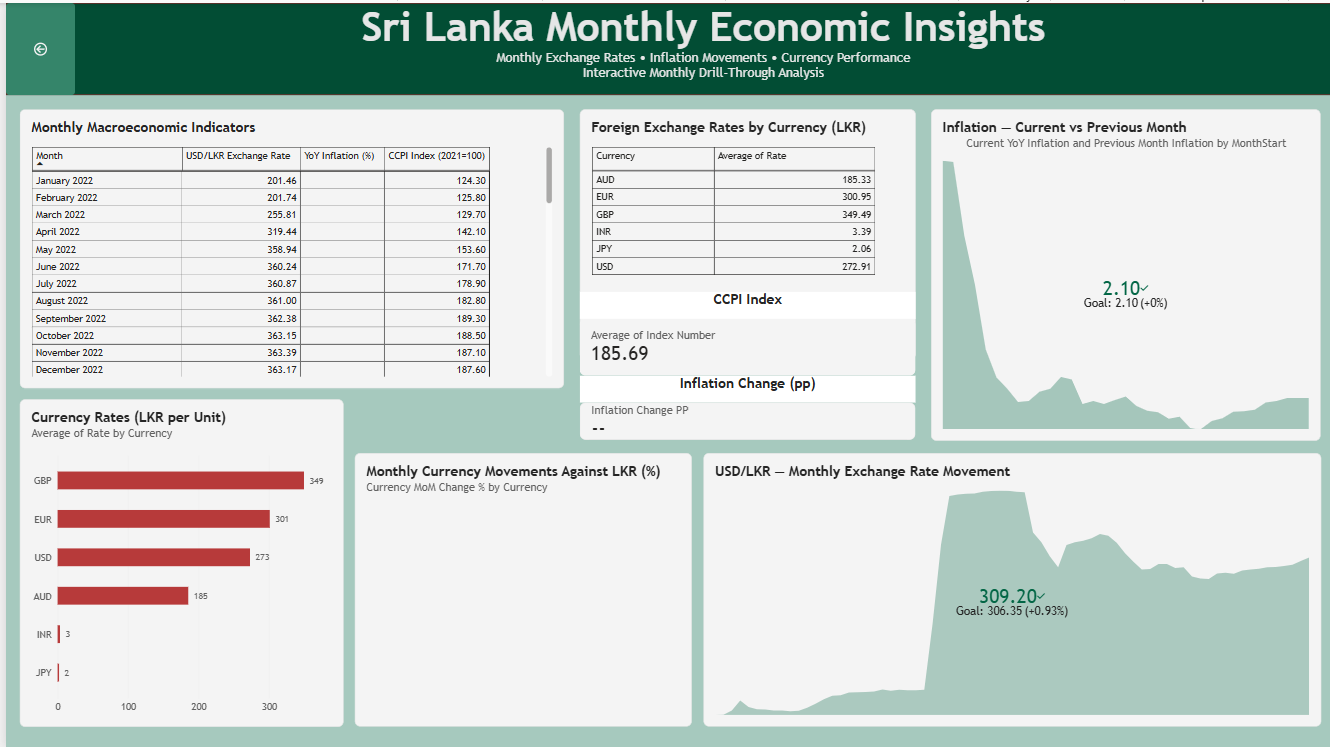

The dashboard page shown, as its layout file describes it:
{"tool":"powerbi","page":{"name":"Monthly Detail","canvas":[1920,1080],"ordinal":1},"visuals":[{"type":"shape","box":[0,0,1920,133.3],"z":0},{"type":"tableEx","title":"Monthly Macroeconomic Indicators","fields":{"Values":["DimMonth.MonthStart","ExchangeRates.USD","Avg(InflationData.Year on Year)","Avg(InflationData.Index Number)"]},"box":[20,154,788,404],"z":2000},{"type":"tableEx","title":"Foreign Exchange Rates by Currency (LKR)","fields":{"Values":["CurrencyRates.Currency","Avg(CurrencyRates.Rate)"]},"box":[830,154,486,362],"z":3000},{"type":"clusteredBarChart","title":"Currency Rates (LKR per Unit)","fields":{"Category":["CurrencyRates.Currency"],"Y":["Avg(CurrencyRates.Rate)"]},"box":[19.9,573.7,468.7,474.1],"z":4000},{"type":"actionButton","box":[0,0,100,133.3],"z":4500},{"type":"kpi","title":"USD/LKR — Monthly Exchange Rate Movement","fields":{"Goal":["CurrencyRates.Previous Month USD LKR"],"Indicator":["ExchangeRates.Average USD LKR"],"TrendLine":["DimMonth.MonthStart"]},"box":[1010,652,894,396],"z":5000},{"type":"kpi","title":"Inflation — Current vs Previous Month","fields":{"Goal":["InflationData.Previous Month Inflation"],"Indicator":["InflationData.Current YoY Inflation"],"TrendLine":["DimMonth.MonthStart"]},"box":[1340,154,564,480],"z":6000},{"type":"cardVisual","title":"Inflation Change (pp)","fields":{"Data":["InflationData.Inflation Change PP"]},"box":[830,540,486,94],"z":7000},{"type":"cardVisual","title":"CCPI Index","fields":{"Data":["Avg(InflationData.Index Number)"]},"box":[830,418,486,122],"z":8000},{"type":"textbox","box":[100,0,1820,176],"z":9000},{"type":"clusteredBarChart","title":"Monthly Currency Movements Against LKR (%)","fields":{"Category":["CurrencyRates.Currency"],"Y":["CurrencyRates.Currency MoM Change %"]},"box":[504,652,488,396],"z":9001}]}

Visuals, with their boxes in screenshot pixels (x1, y1, x2, y2), scaled from the page's 1920x1080 canvas onto the 1330x747 screenshot:
shape: {"left": 0, "top": 0, "right": 1329, "bottom": 92}
"Monthly Macroeconomic Indicators" tableEx: {"left": 14, "top": 107, "right": 560, "bottom": 386}
"Foreign Exchange Rates by Currency (LKR)" tableEx: {"left": 575, "top": 107, "right": 912, "bottom": 357}
"Currency Rates (LKR per Unit)" clusteredBarChart: {"left": 14, "top": 397, "right": 338, "bottom": 725}
actionButton: {"left": 0, "top": 0, "right": 69, "bottom": 92}
"USD/LKR — Monthly Exchange Rate Movement" kpi: {"left": 700, "top": 451, "right": 1319, "bottom": 725}
"Inflation — Current vs Previous Month" kpi: {"left": 928, "top": 107, "right": 1319, "bottom": 439}
"Inflation Change (pp)" cardVisual: {"left": 575, "top": 374, "right": 912, "bottom": 439}
"CCPI Index" cardVisual: {"left": 575, "top": 289, "right": 912, "bottom": 374}
textbox: {"left": 69, "top": 0, "right": 1329, "bottom": 122}
"Monthly Currency Movements Against LKR (%)" clusteredBarChart: {"left": 349, "top": 451, "right": 687, "bottom": 725}
